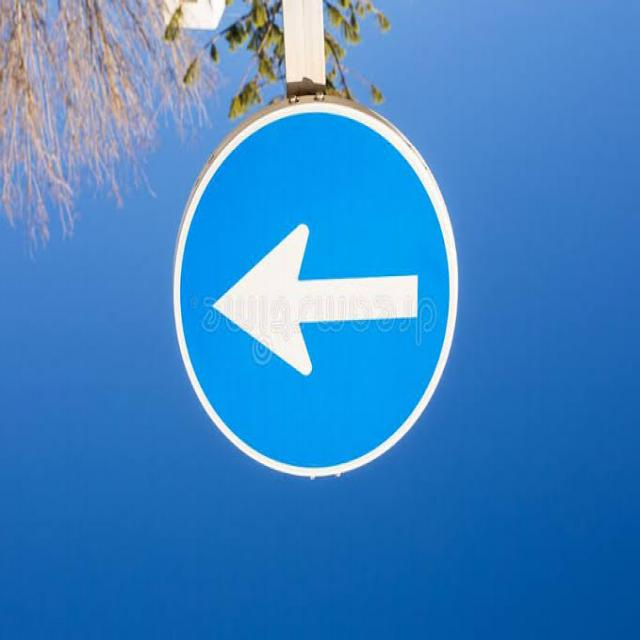Turn Left: (173, 99, 457, 482)
